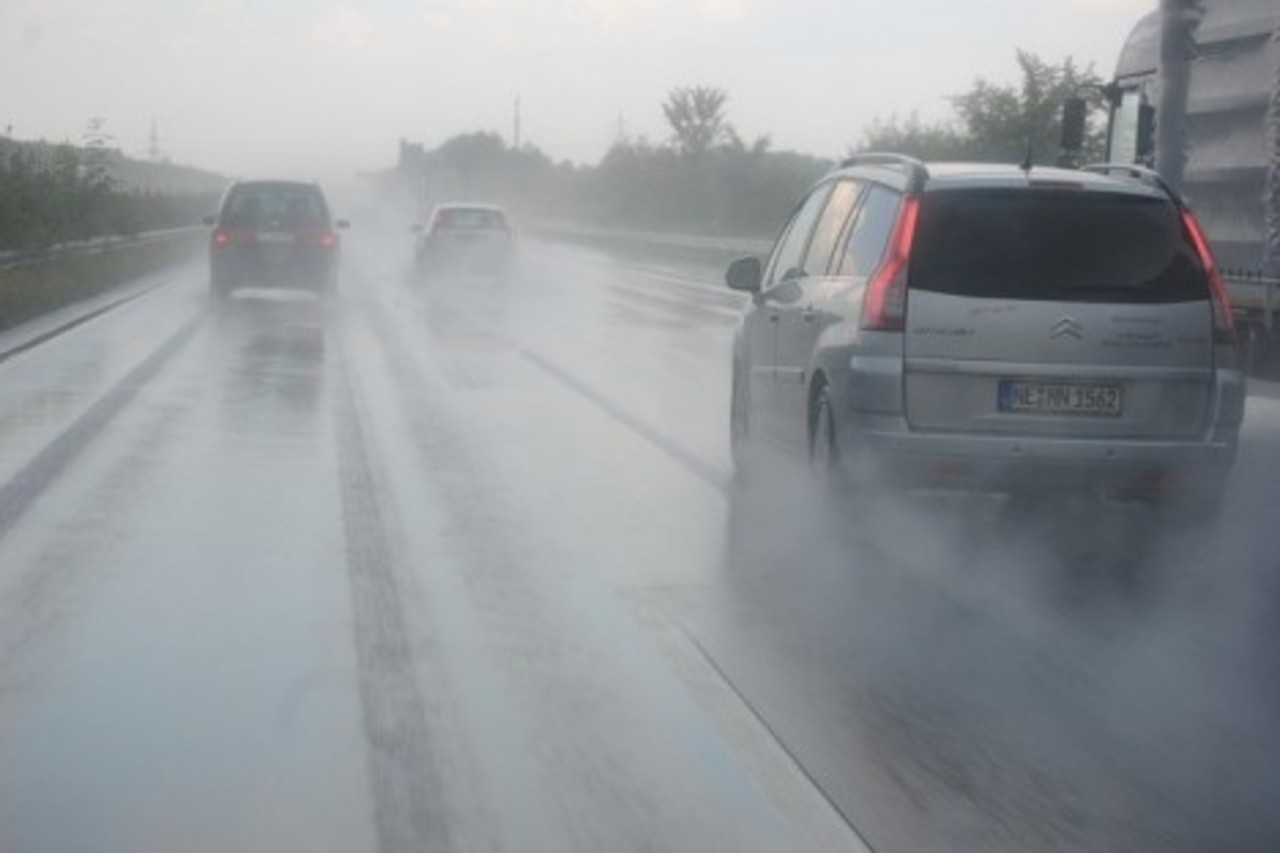car: (718, 146, 1267, 539), (207, 181, 339, 303), (411, 203, 511, 299)
truck: (1081, 24, 1275, 408)
